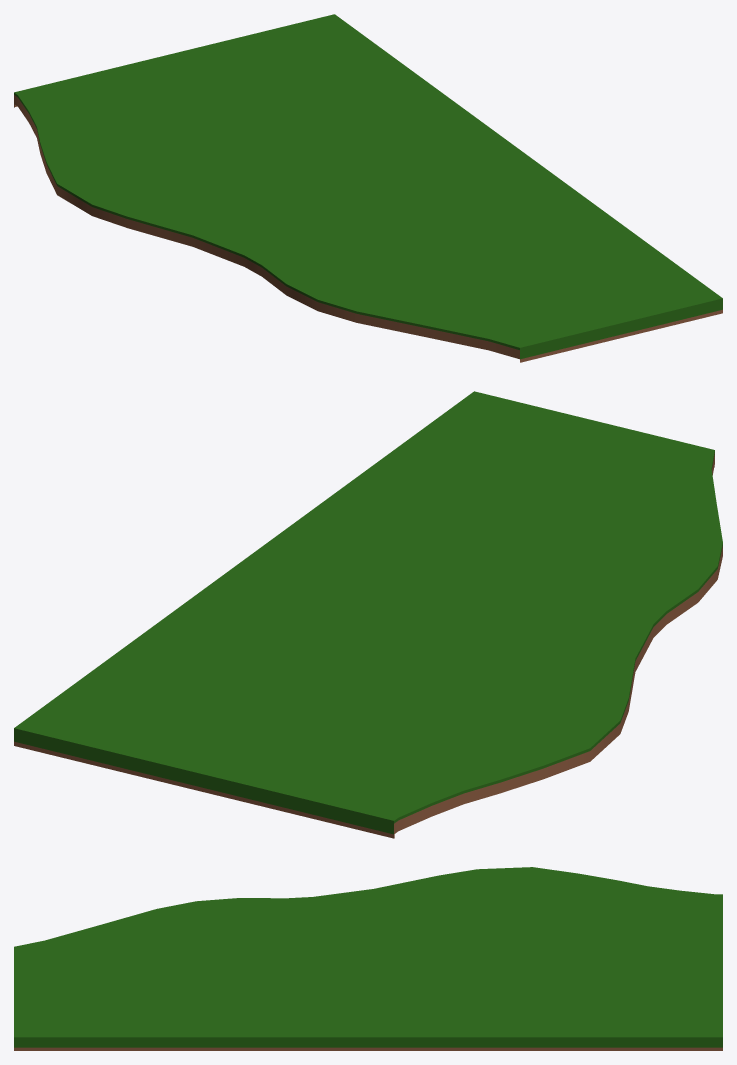
The model's file is MesaMitadChica.fbx.
3 views of the same model, one above another, from view 1: azimuth 30°, elevation 25°; view 2: azimuth 150°, elevation 25°; view 3: azimuth 270°, elevation 25° (orthographic). The views are drawn at different scales.
Parts seen in each view (by area): view 1: Table.001; view 2: Table.001; view 3: Table.001.
Part boxes in pixels (left/top/right/bottom): Table.001: left=14, top=14, right=722, bottom=362; Table.001: left=14, top=391, right=722, bottom=838; Table.001: left=14, top=867, right=722, bottom=1050.
Bounding box in the file's own units: 1028 × 38.49 × 1810.
